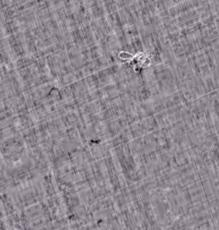snag: (114, 44, 160, 82)
